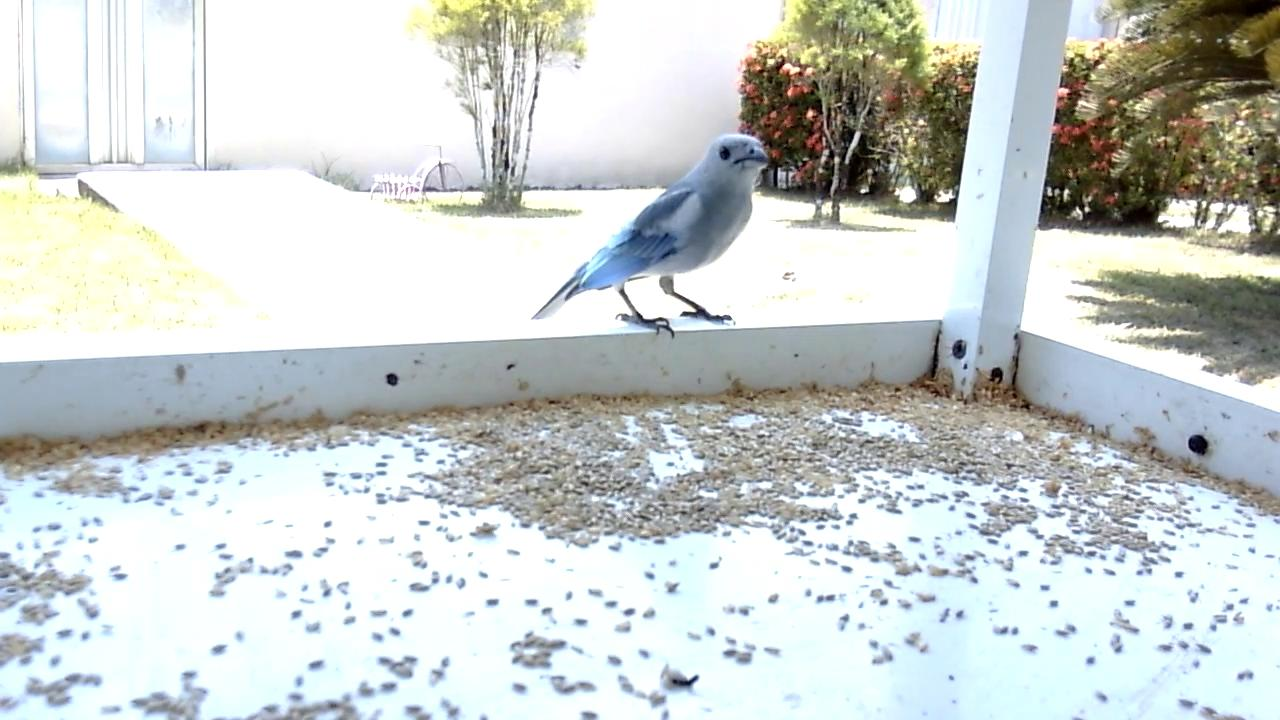sanhaco_da_amazonia: (532, 131, 774, 340)
